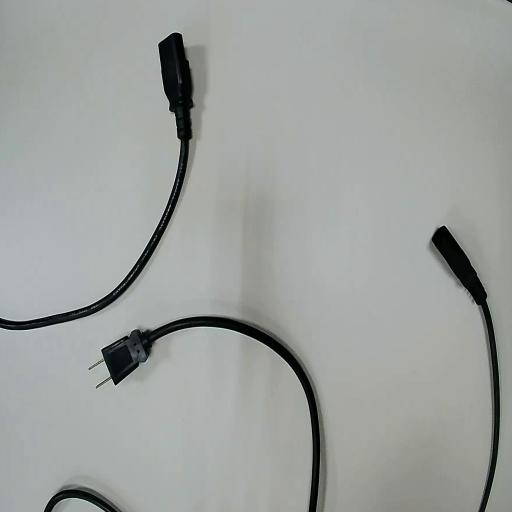wire: (0, 34, 192, 328), (103, 317, 319, 511), (432, 227, 498, 511)
